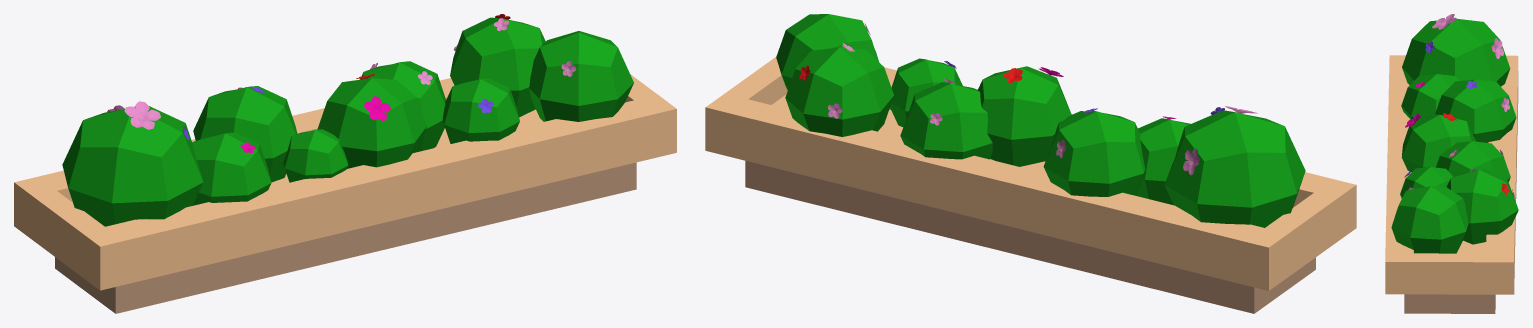
Rendered from vase.fbx.
3 views of the same model, side by side, from view 1: azimuth 30°, elevation 25°; view 2: azimuth 150°, elevation 25°; view 3: azimuth 270°, elevation 25° (orthographic). The views are drawn at different scales.
Visible parts, largest first — view 1: vase; view 2: vase; view 3: vase.
Part boxes in pixels (<box>): vase: <box>14,14,676,313</box>; vase: <box>705,14,1356,313</box>; vase: <box>1385,14,1518,313</box>.
Bounding box in the file's own units: 210 × 60.97 × 57.26.
